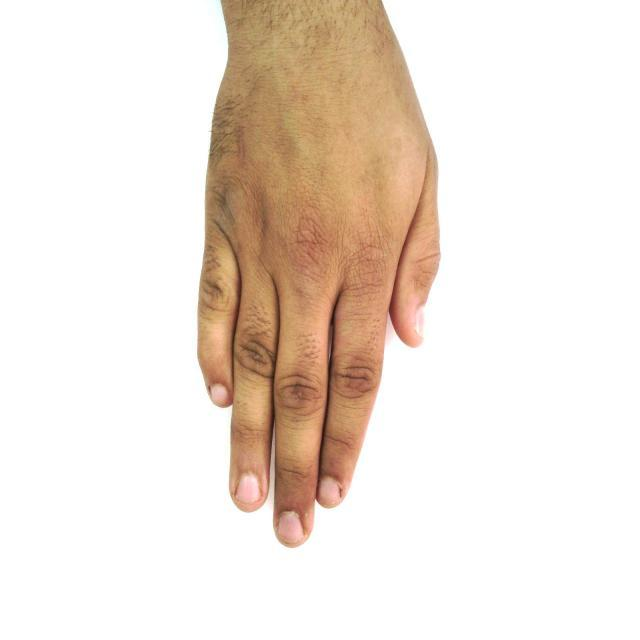Fingernail: (278, 512, 303, 544), (237, 475, 261, 503), (320, 478, 340, 506), (211, 385, 229, 406), (417, 308, 425, 335)
